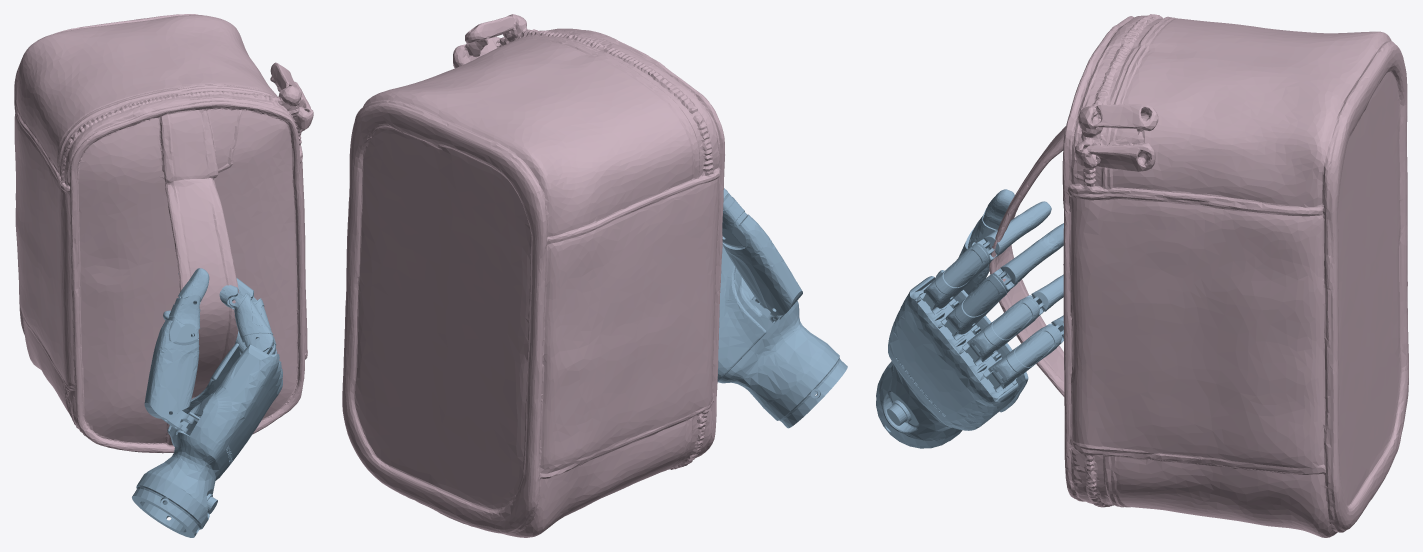
3 views of the same model, side by side, from view 1: azimuth 30°, elevation 25°; view 2: azimuth 150°, elevation 25°; view 3: azimuth 270°, elevation 25° (orthographic). The views are drawn at different scales.
Parts seen in each view (by area): view 1: obj_mesh_grasp_40.obj, world; view 2: obj_mesh_grasp_40.obj, world; view 3: obj_mesh_grasp_40.obj, world.
Part boxes in pixels (x1,y1,x2,y2): obj_mesh_grasp_40.obj: [14, 14, 313, 453]; world: [132, 268, 282, 537]; obj_mesh_grasp_40.obj: [342, 14, 724, 537]; world: [717, 188, 847, 428]; obj_mesh_grasp_40.obj: [989, 14, 1408, 537]; world: [876, 189, 1063, 448].
Bounding box in the file's own units: 0.2171 × 0.2797 × 0.2968.
